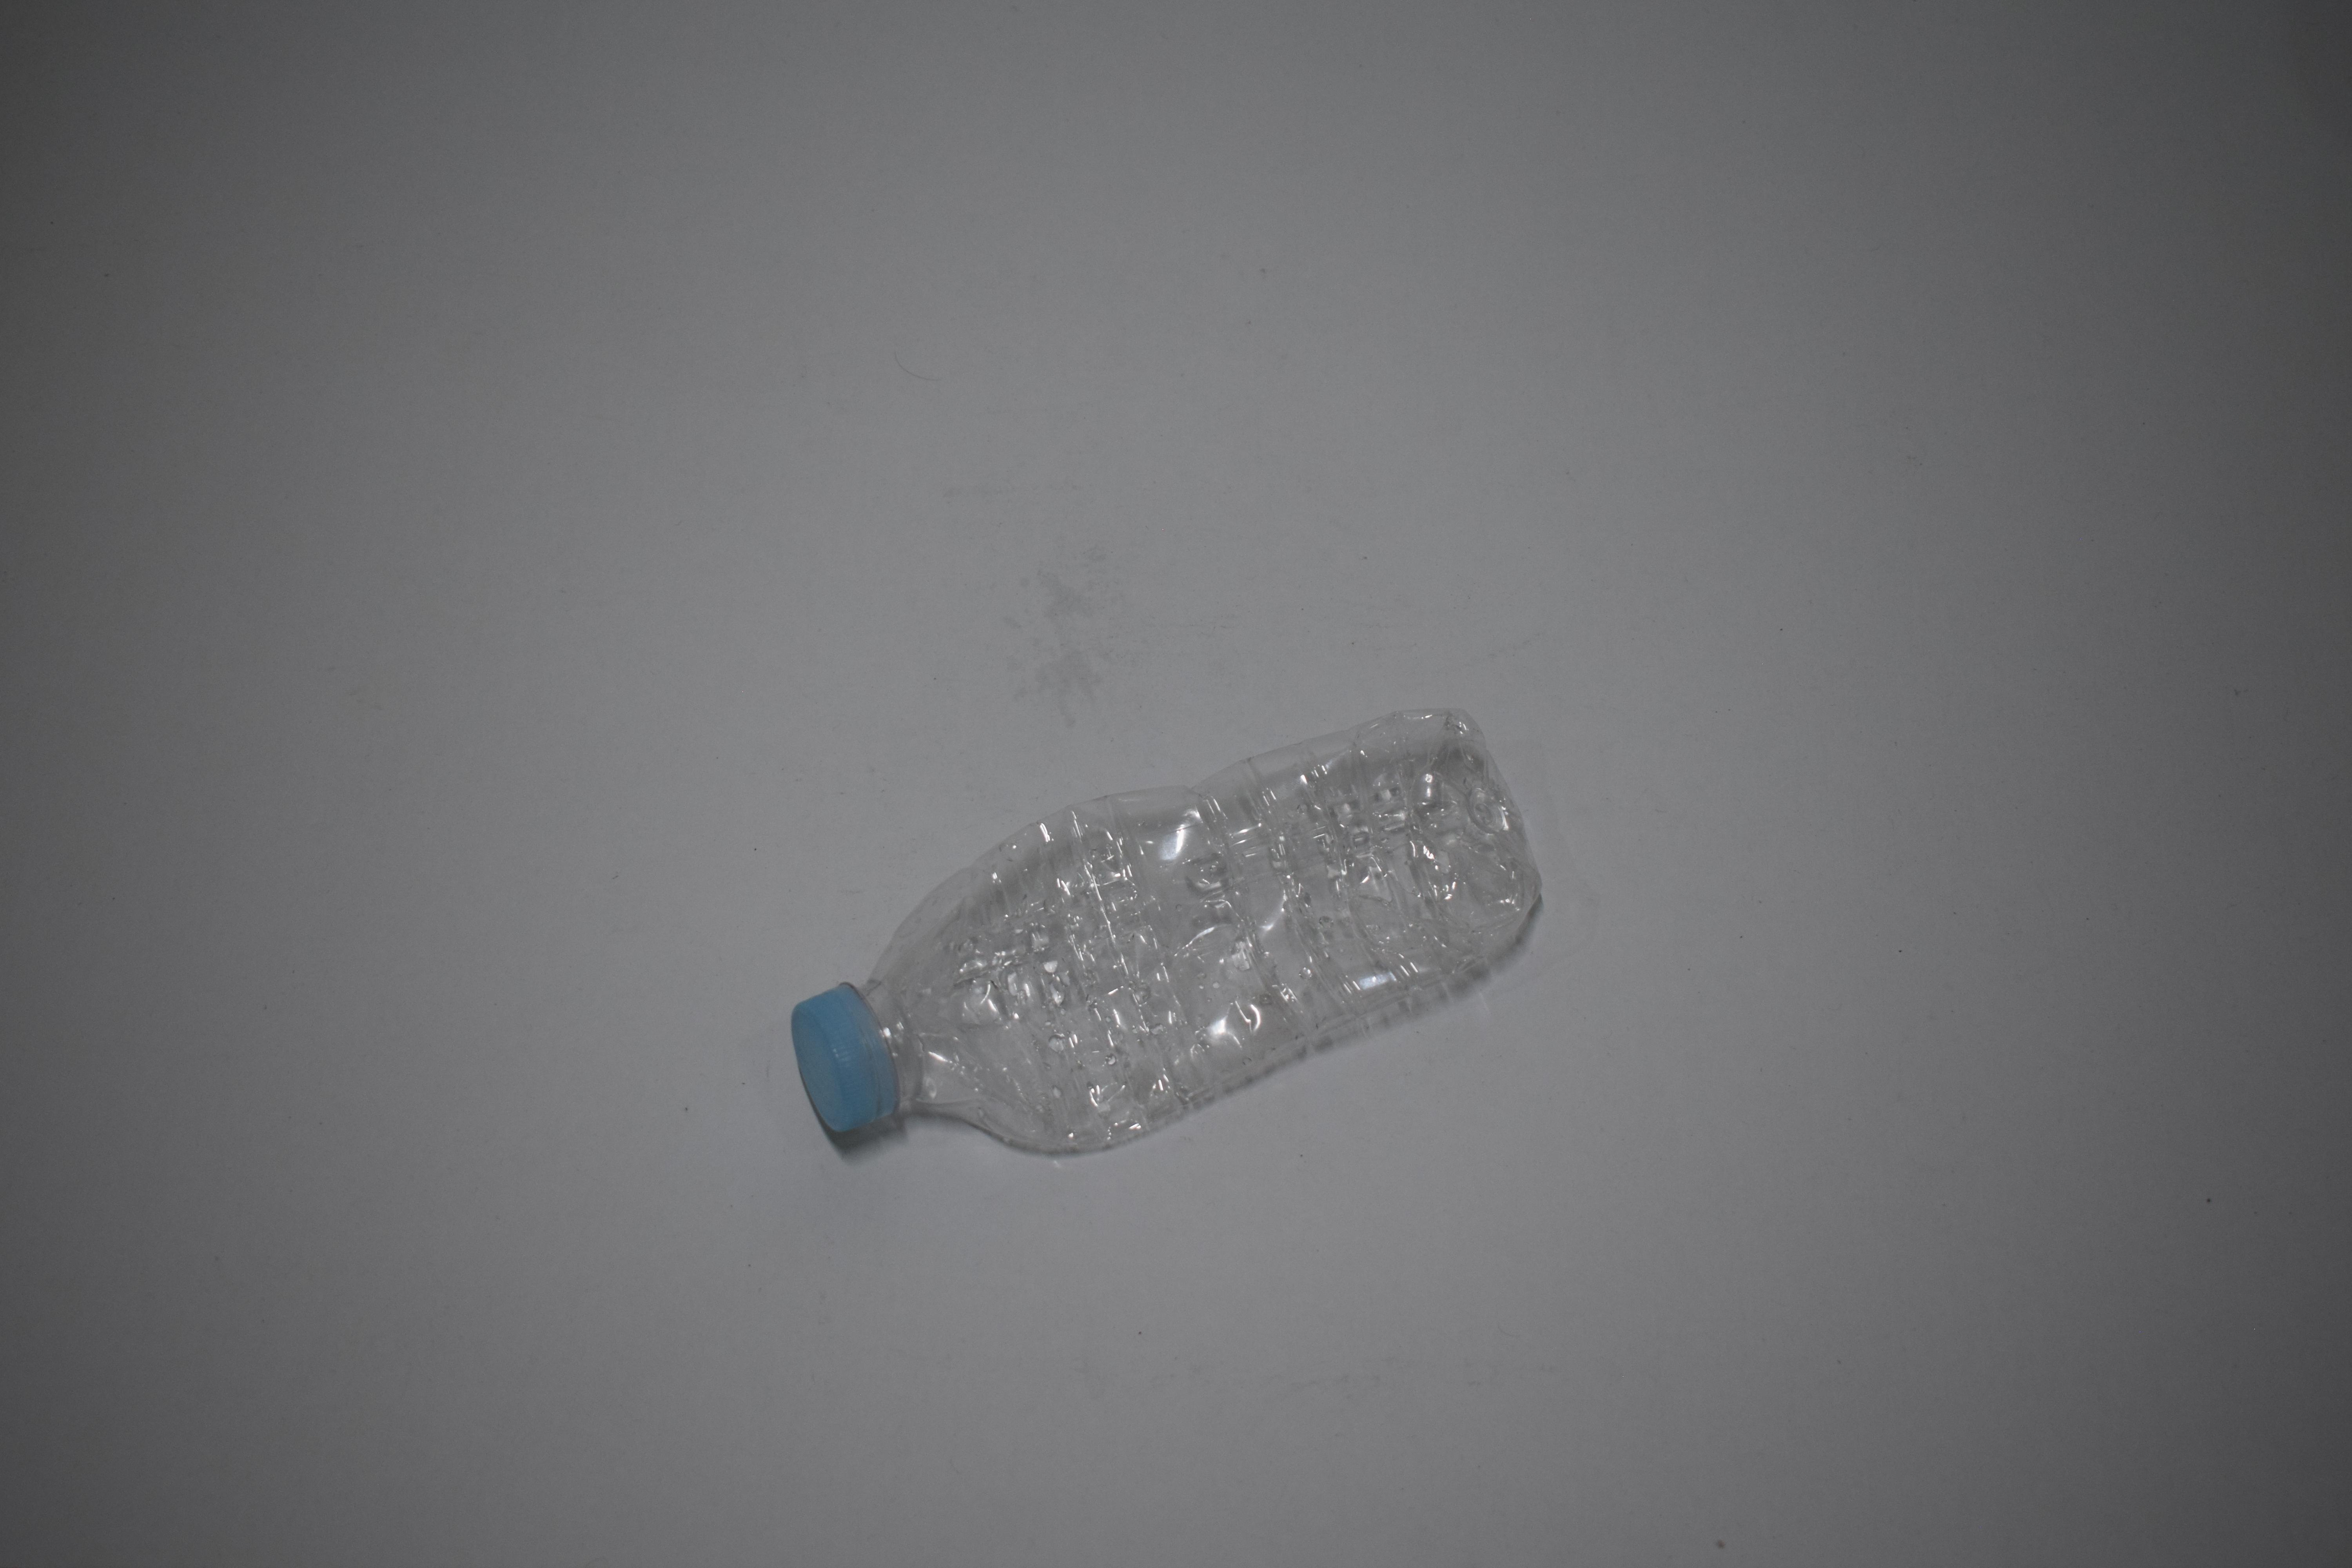bottle: (784, 0, 1552, 380)
